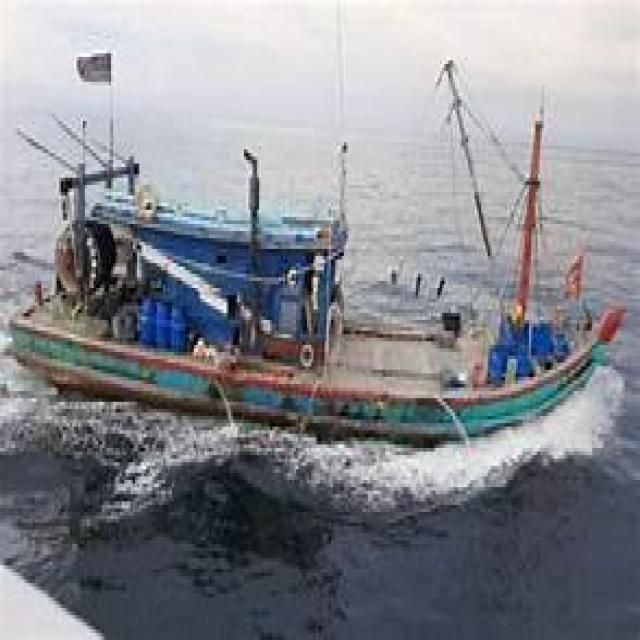Fishing Boat: (0, 87, 640, 471)
